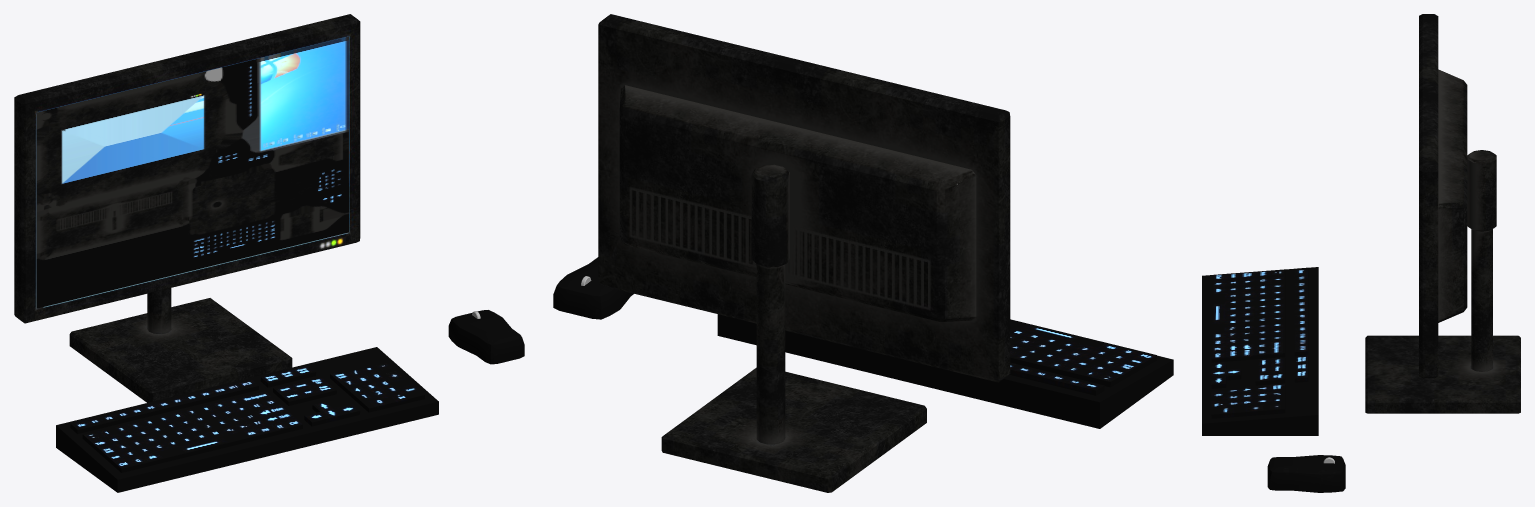
Rendered from computer_new.glb.
3 renders of one model, left to right at view 1: azimuth 30°, elevation 25°; view 2: azimuth 150°, elevation 25°; view 3: azimuth 270°, elevation 25°, orthographic. The views are drawn at different scales.
Parts seen in each view (by area): view 1: Computer_Low, Key_Board_Low, Base_Low, Mouse_Low, Vert_Low; view 2: Computer_Low, Base_Low, Key_Board_Low, Vert_Low, Mouse_Low; view 3: Key_Board_Low, Computer_Low, Base_Low, Vert_Low, Mouse_Low.
Boxes of the visible parts, bbox=[...] form: Computer_Low: bbox=[14, 14, 360, 323]; Key_Board_Low: bbox=[56, 347, 438, 492]; Base_Low: bbox=[69, 298, 292, 402]; Mouse_Low: bbox=[448, 310, 524, 364]; Vert_Low: bbox=[147, 288, 171, 333]; Computer_Low: bbox=[598, 14, 1010, 382]; Base_Low: bbox=[661, 367, 926, 492]; Key_Board_Low: bbox=[717, 314, 1173, 428]; Vert_Low: bbox=[751, 164, 789, 444]; Mouse_Low: bbox=[553, 257, 633, 319]; Key_Board_Low: bbox=[1202, 267, 1318, 435]; Computer_Low: bbox=[1419, 14, 1467, 378]; Base_Low: bbox=[1365, 335, 1520, 413]; Vert_Low: bbox=[1467, 150, 1496, 371]; Mouse_Low: bbox=[1267, 455, 1345, 492].
Size of the model in its own units: 1 by 0.6542 by 0.6521.
3 materials, 3 textured.
